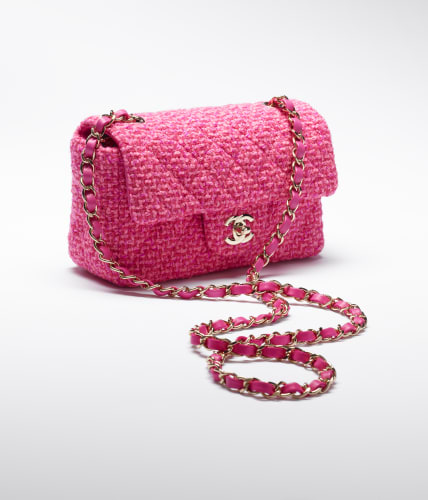channel: (45, 91, 335, 279), (71, 140, 117, 267), (203, 208, 253, 254)
